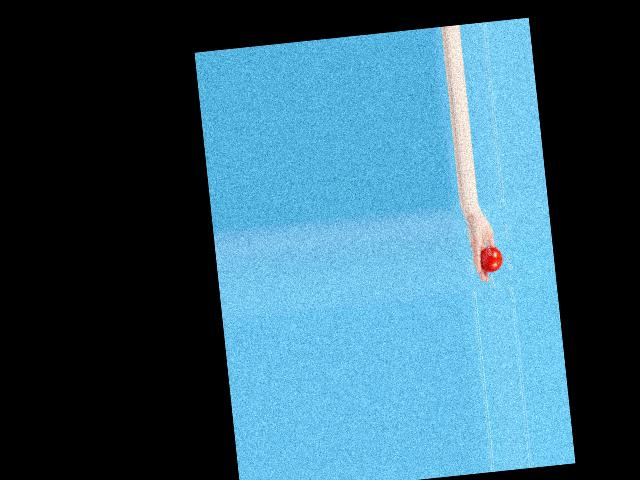tomato: (479, 245, 503, 273)
